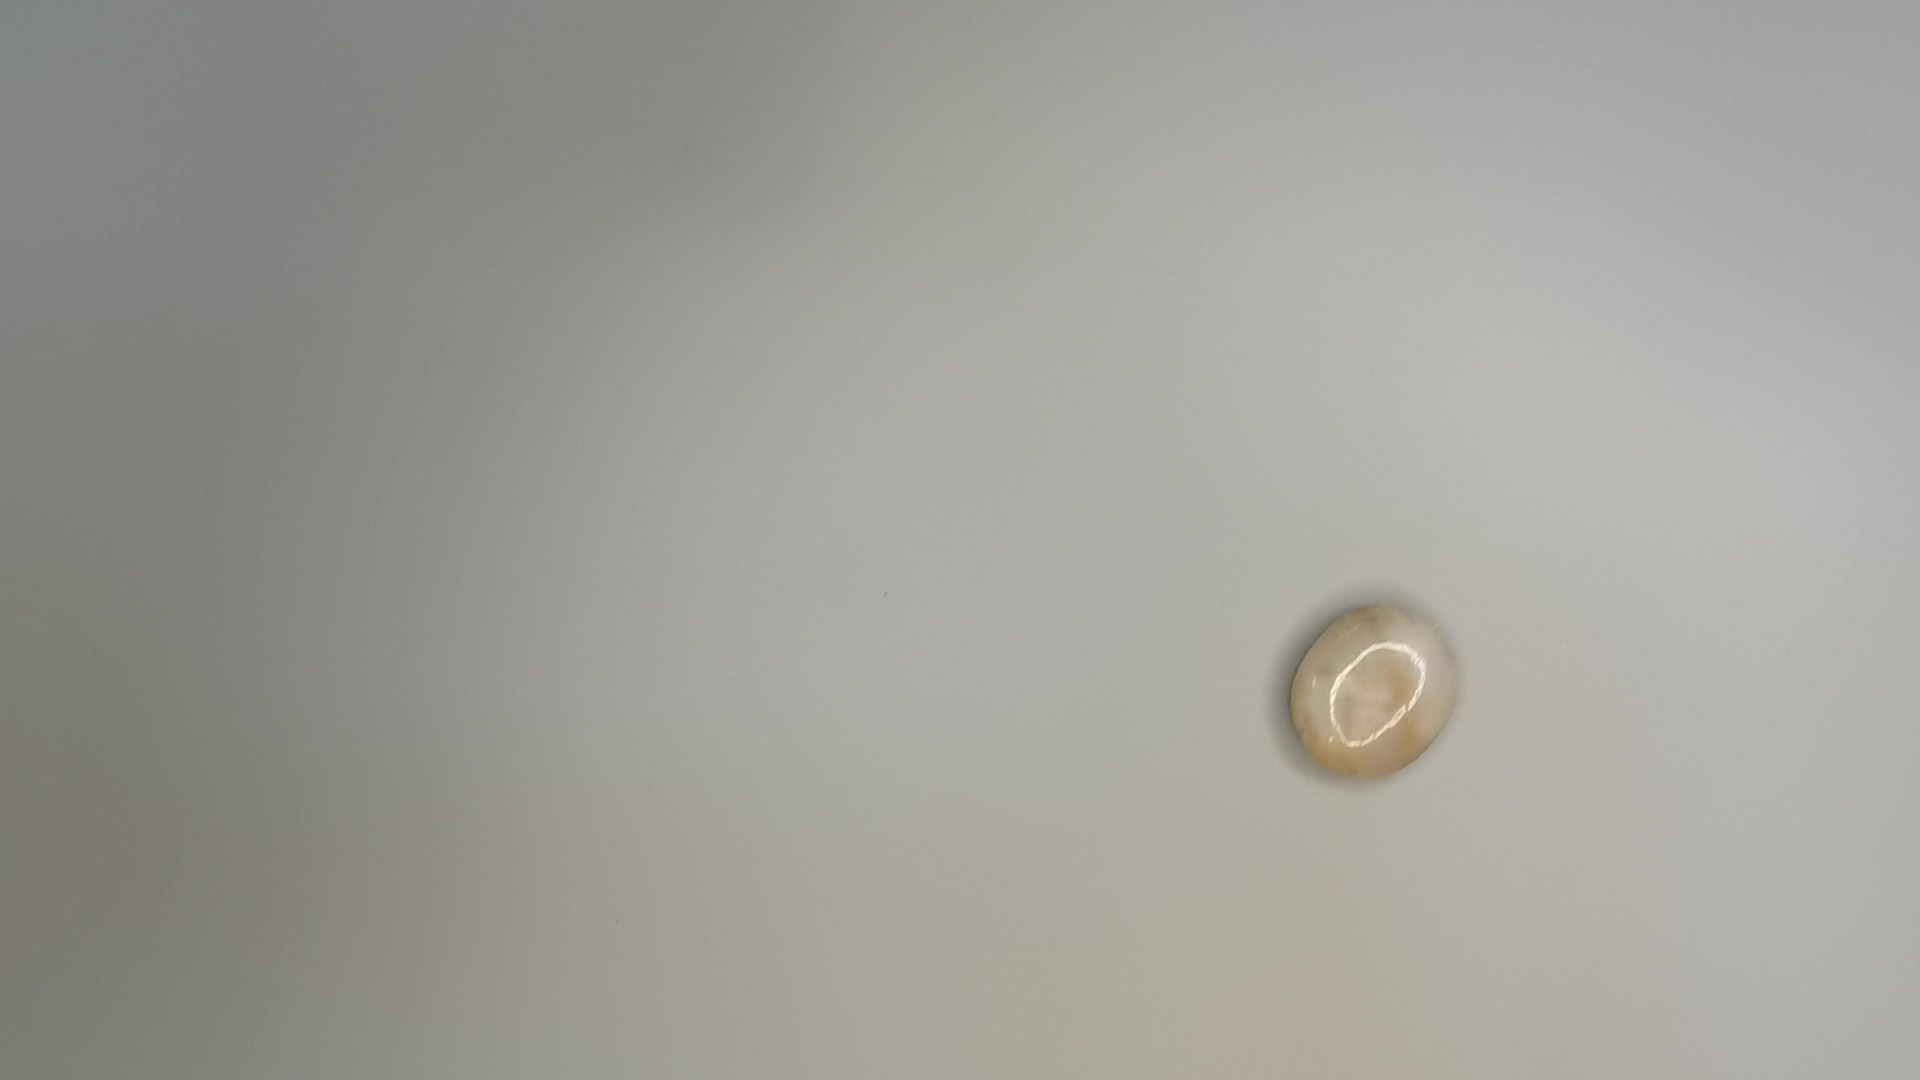ceramic: (1284, 600, 1473, 782)
